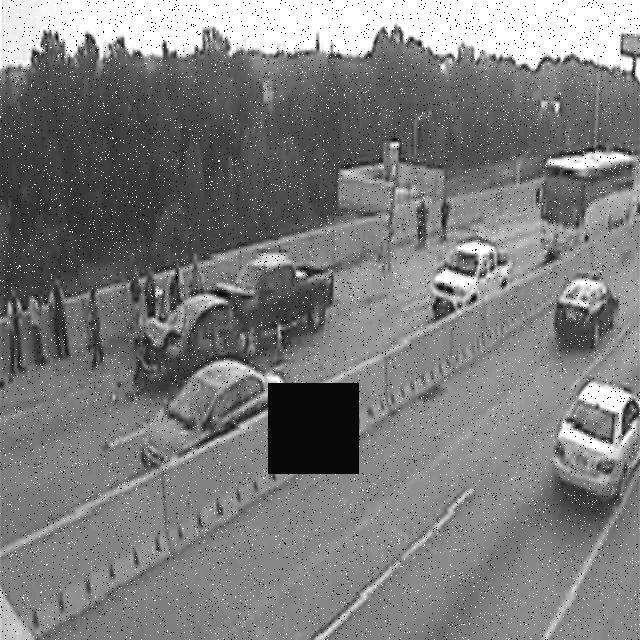Moderate: (128, 245, 335, 392)
